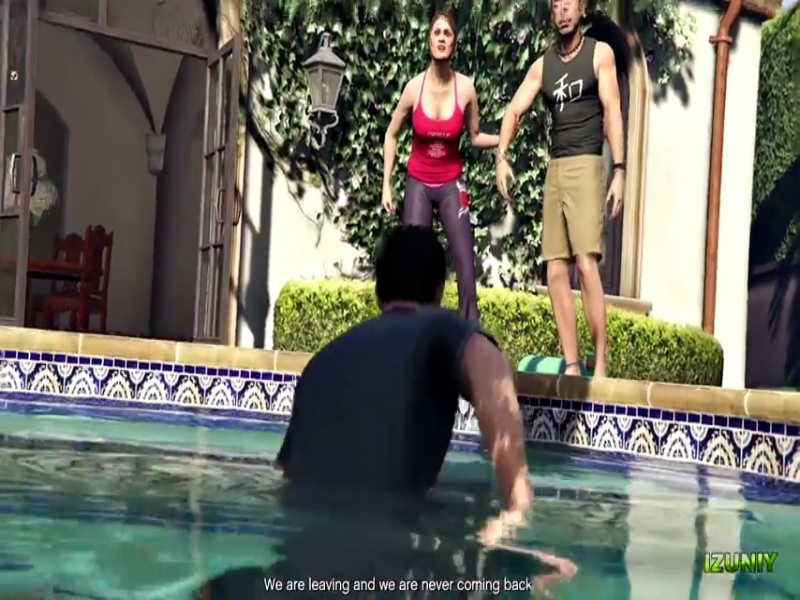human: (275, 206, 542, 510)
